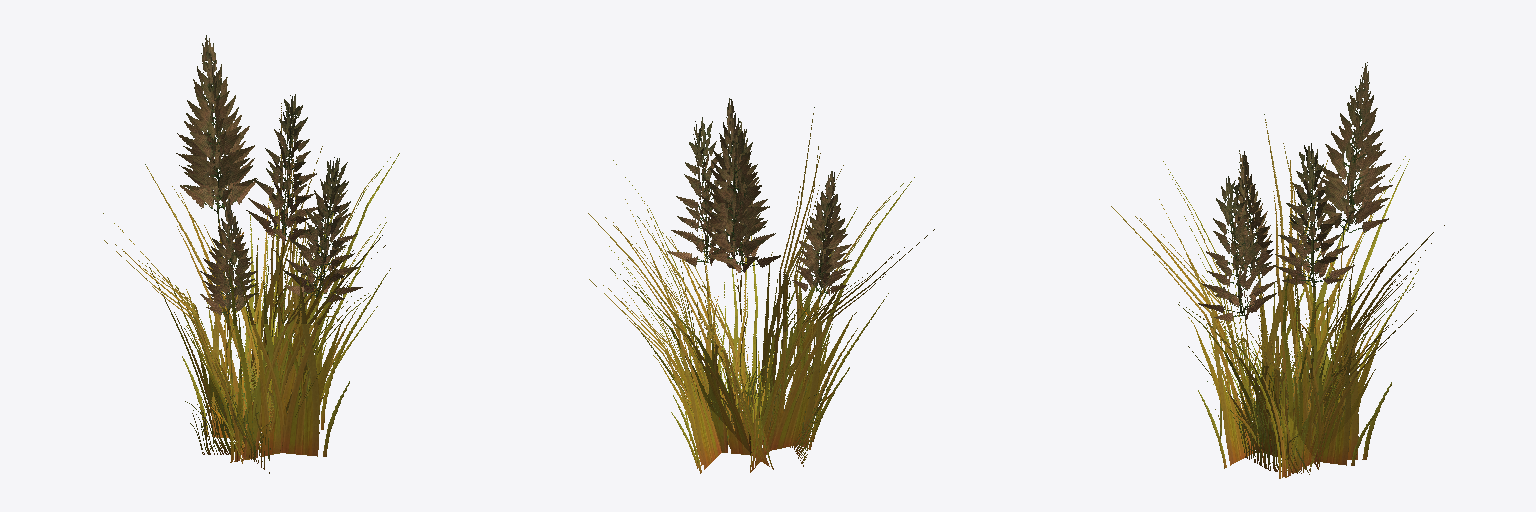
The picture shows the model from 3 angles: view 1: azimuth 30°, elevation 25°; view 2: azimuth 150°, elevation 25°; view 3: azimuth 270°, elevation 25°; orthographic projection.
Parts seen in each view (by area): view 1: SM_Grass_03_Plane.898; view 2: SM_Grass_03_Plane.898; view 3: SM_Grass_03_Plane.898.
Part boxes in pixels (x1,y1,x2,y2): SM_Grass_03_Plane.898: (103,35,399,473); SM_Grass_03_Plane.898: (588,98,934,473); SM_Grass_03_Plane.898: (1111,62,1444,478).
Bounding box in the file's own units: 0.9855 × 1.11 × 0.9193.
Materials: 1 (1 with a texture image).